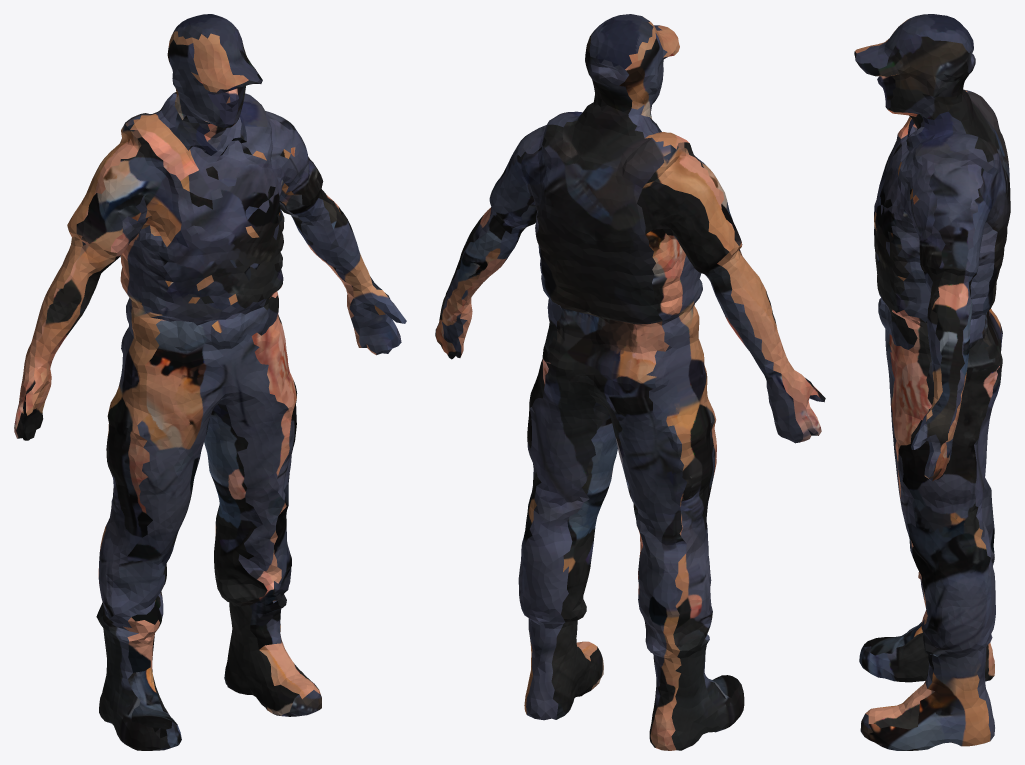
The model's file is policial.glb.
3 renders of one model, left to right at view 1: azimuth 30°, elevation 25°; view 2: azimuth 150°, elevation 25°; view 3: azimuth 270°, elevation 25°, orthographic.
Visible parts, largest first — view 1: geometry_0; view 2: geometry_0; view 3: geometry_0.
Part boxes in pixels (bbox=[...]): geometry_0: bbox=[14, 14, 406, 750]; geometry_0: bbox=[435, 14, 825, 750]; geometry_0: bbox=[854, 14, 1010, 750].
Size of the model in its own units: 1.15 by 1.99 by 0.4083.
Materials: 1 (1 with a texture image).
